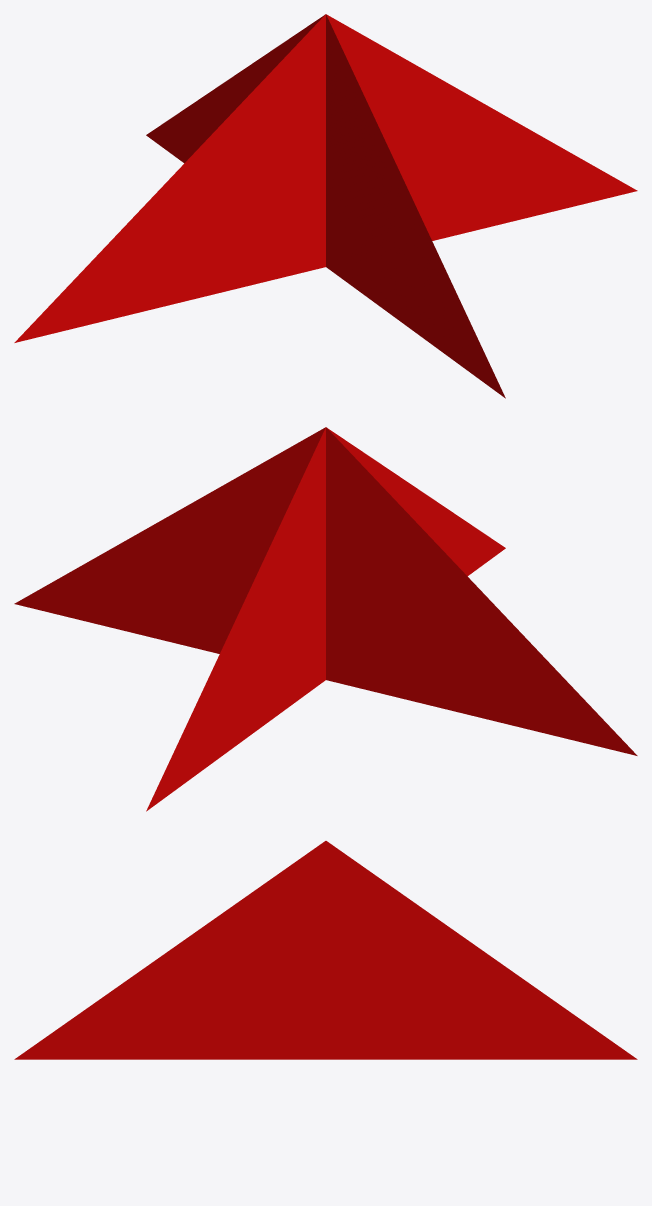
File: grass_triangleX.fbx
3 views of the same model, one above another, from view 1: azimuth 30°, elevation 25°; view 2: azimuth 150°, elevation 25°; view 3: azimuth 270°, elevation 25° (orthographic). The views are drawn at different scales.
Parts seen in each view (by area): view 1: Model; view 2: Model; view 3: Model.
Part boxes in pixels (box(x1,y1,x2,y2)): Model: box(14, 14, 637, 398); Model: box(14, 427, 637, 811); Model: box(14, 841, 637, 1059).
Size of the model in its own units: 2.4 by 0.93 by 2.4.
